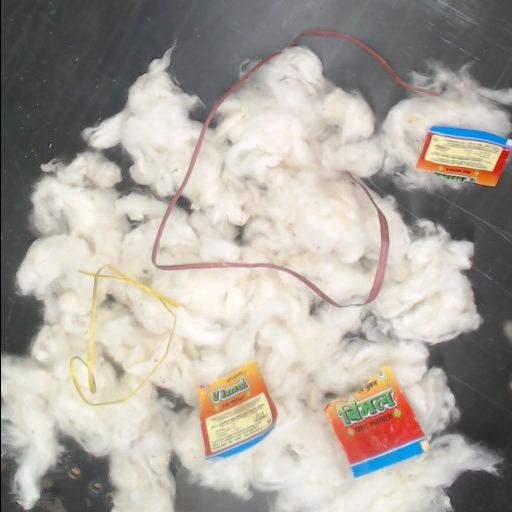conveyor belt: (1, 0, 512, 353), (379, 166, 512, 511), (306, 39, 405, 115), (29, 442, 111, 511), (176, 475, 271, 511), (1, 459, 24, 511)
cotton: (1, 49, 495, 511), (157, 48, 512, 302), (97, 294, 167, 377), (153, 346, 189, 389), (34, 328, 60, 359)
packet: (324, 368, 428, 477), (197, 363, 276, 458), (417, 127, 512, 186)
thread: (151, 51, 388, 306), (69, 264, 181, 406), (288, 30, 436, 94)
